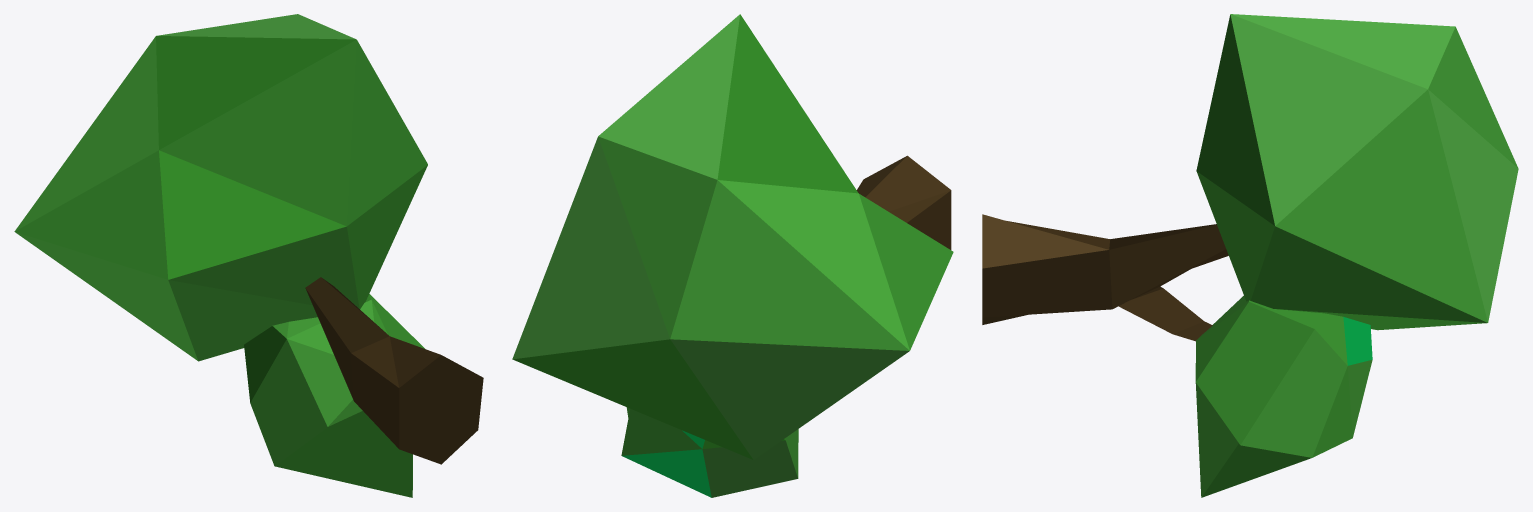
The model's file is tree_3.fbx.
3 views of the same model, side by side, from view 1: azimuth 30°, elevation 25°; view 2: azimuth 150°, elevation 25°; view 3: azimuth 270°, elevation 25° (orthographic). The views are drawn at different scales.
Visible parts, largest first — view 1: tree_3; view 2: tree_3; view 3: tree_3.
Boxes of the visible parts, x1,y1,x2,y2 form: tree_3: (14, 14, 483, 497); tree_3: (512, 14, 953, 497); tree_3: (982, 14, 1518, 497).
Bounding box in the file's own units: 96 × 116 × 122.
